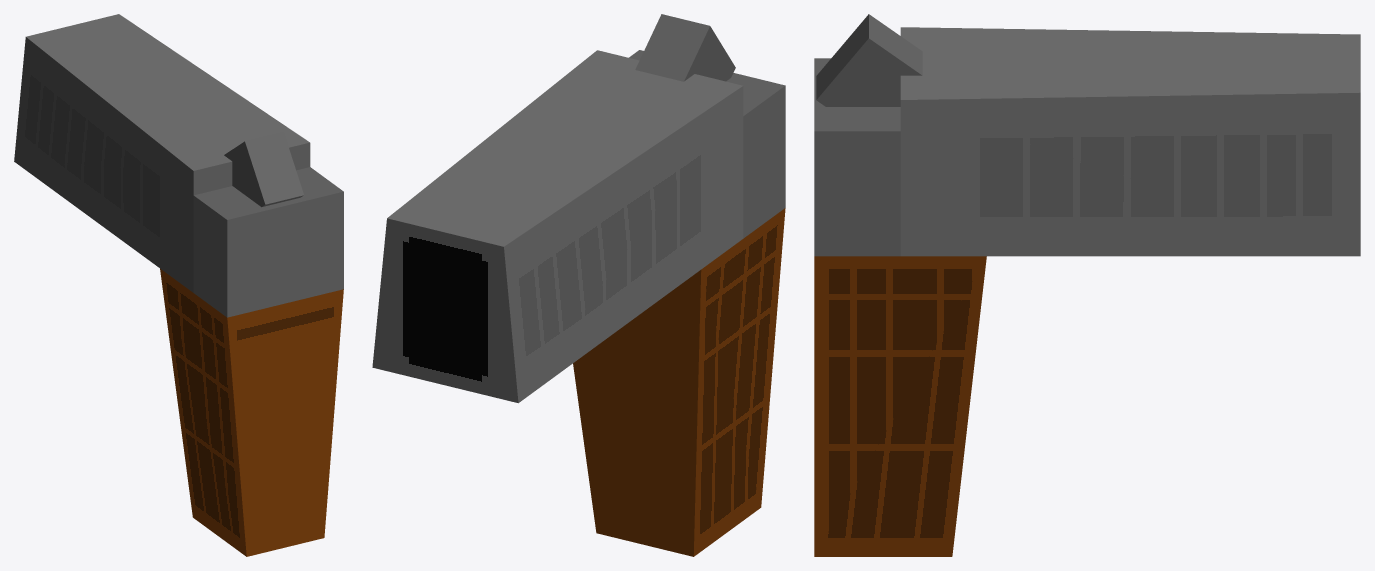
File: Pistol.gltf
3 renders of one model, left to right at view 1: azimuth 30°, elevation 25°; view 2: azimuth 150°, elevation 25°; view 3: azimuth 270°, elevation 25°, orthographic. The views are drawn at different scales.
Visible parts, largest first — view 1: cuboid (×4); view 2: cuboid (×4); view 3: cuboid (×4).
Boxes of the visible parts, bbox=[...] form: cuboid (×4): bbox=[14, 14, 343, 556]; cuboid (×4): bbox=[372, 14, 785, 556]; cuboid (×4): bbox=[814, 14, 1360, 556].
Bounding box in the file's own units: 0.1875 × 0.6075 × 0.5937.
Materials: 1 (1 with a texture image).
